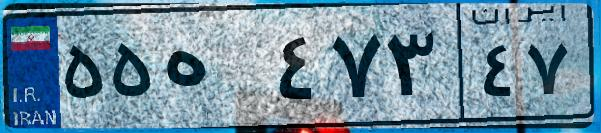3: (385, 28, 445, 110)
4: (270, 28, 330, 110), (475, 38, 525, 113)
5: (57, 26, 110, 100), (110, 28, 158, 98)
7: (330, 28, 385, 110), (525, 38, 570, 115)
ه: (158, 20, 270, 120)
